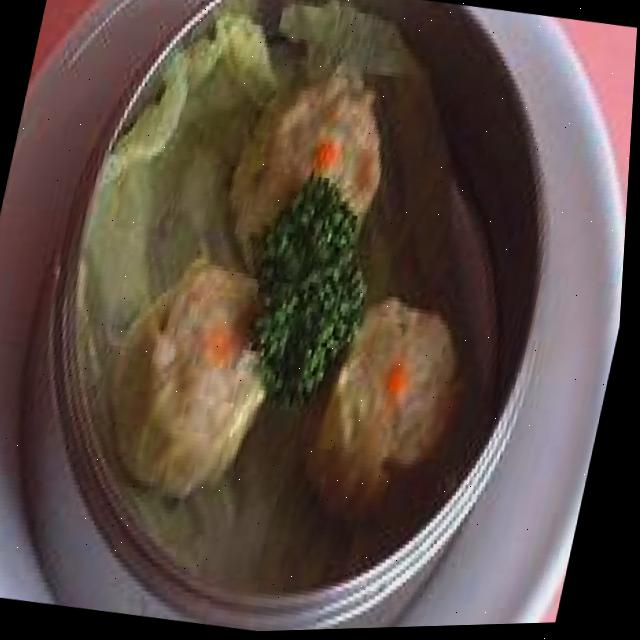带馅早点: (88, 38, 523, 532)
